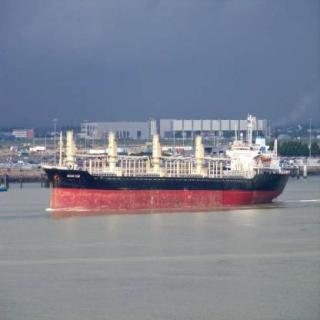Bulk Carrier: (29, 121, 297, 205)
